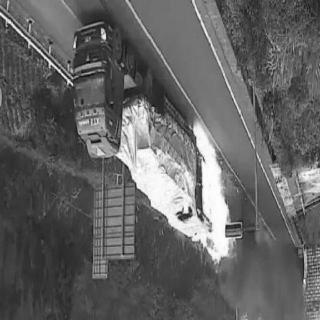Fire: (189, 123, 239, 266)
Smoke: (232, 242, 300, 310)
other: (77, 26, 124, 164)
